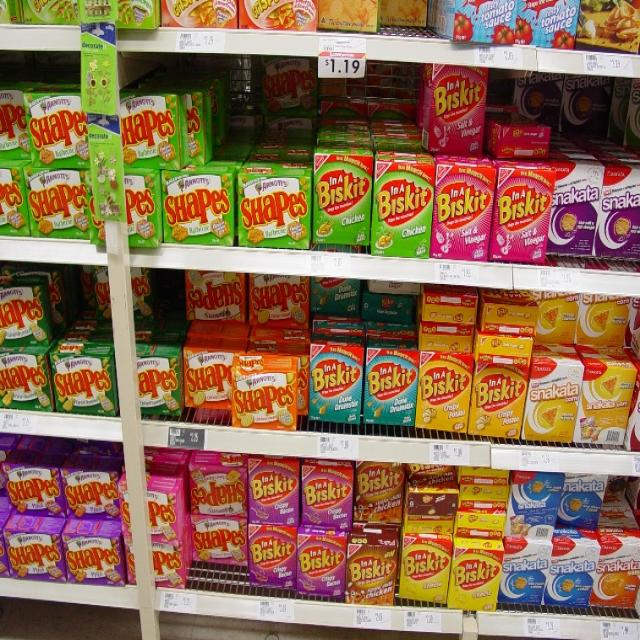q286: (316, 148, 369, 252), (378, 150, 427, 256)
